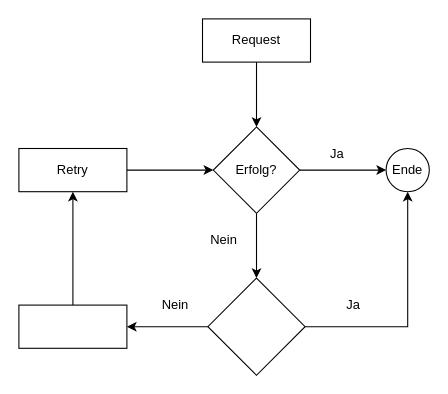
The diagram is 448 pixels wide and 394 high, and some of its shapes have lost their labels. Each missing label, with the centre of its shape:
"Max. Retries erreicht?" goes at pixel 256 326.
"Warte und Erhöhe Backoff" goes at pixel 72 326.
